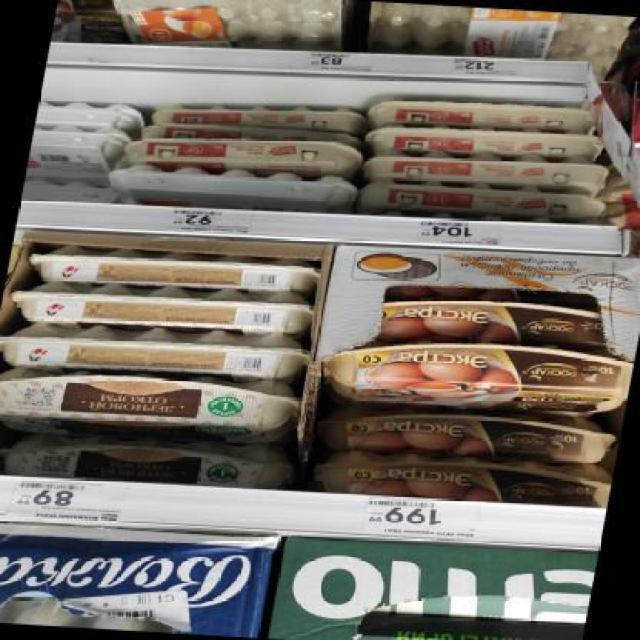Egg: (320, 333, 636, 417), (0, 364, 302, 448), (313, 402, 619, 466), (308, 448, 614, 510), (0, 427, 295, 490), (379, 294, 616, 348), (119, 132, 364, 180), (356, 176, 607, 222), (360, 146, 611, 192), (359, 120, 608, 163), (357, 95, 606, 138), (151, 96, 362, 136)
